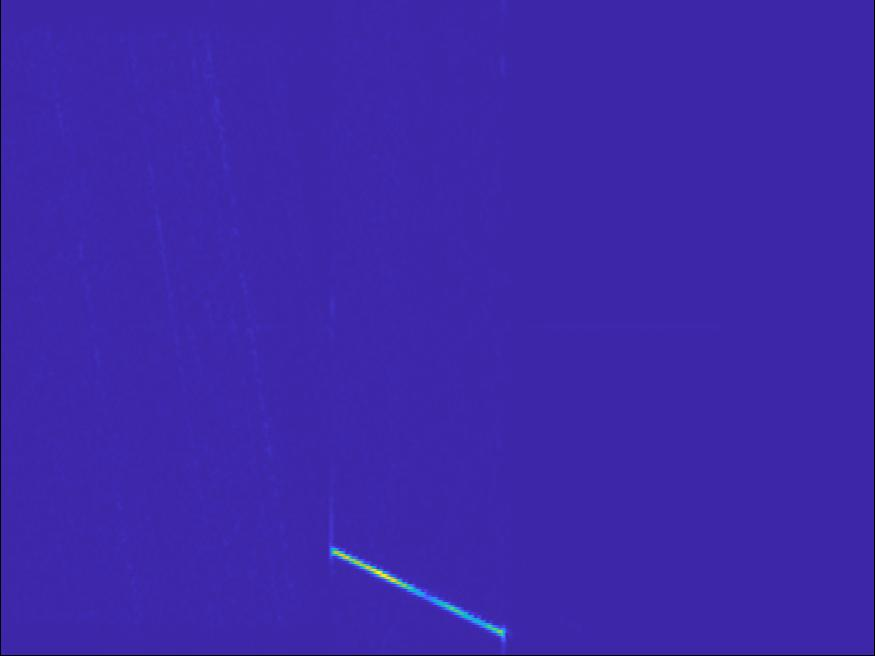Interference: (420, 76, 638, 239), (343, 296, 534, 368), (434, 36, 537, 83), (433, 126, 533, 174)
